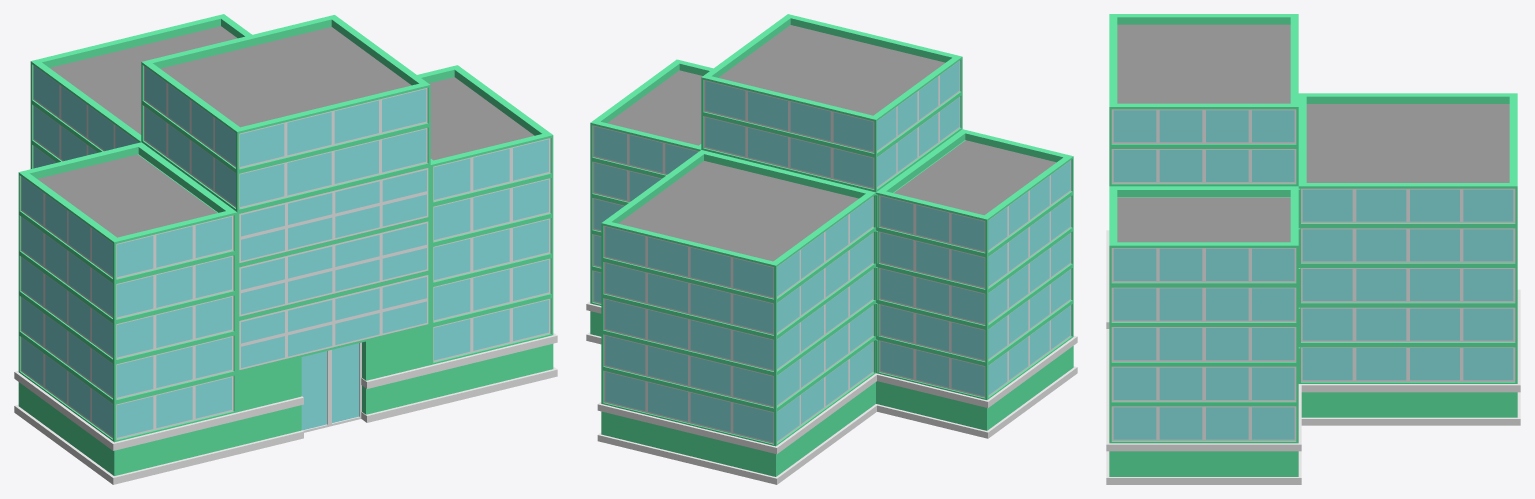
File: SM_House_14_03.FBX
3 renders of one model, left to right at view 1: azimuth 30°, elevation 25°; view 2: azimuth 150°, elevation 25°; view 3: azimuth 270°, elevation 25°, orthographic. The views are drawn at different scales.
Visible parts, largest first — view 1: SM_House_14_03; view 2: SM_House_14_03; view 3: SM_House_14_03.
Boxes of the visible parts, <box> form: SM_House_14_03: <box>14,14,557,484</box>; SM_House_14_03: <box>586,14,1077,484</box>; SM_House_14_03: <box>1106,14,1520,484</box>.
Bounding box in the file's own units: 11.59 × 8 × 9.47.
1 material, 1 textured.
